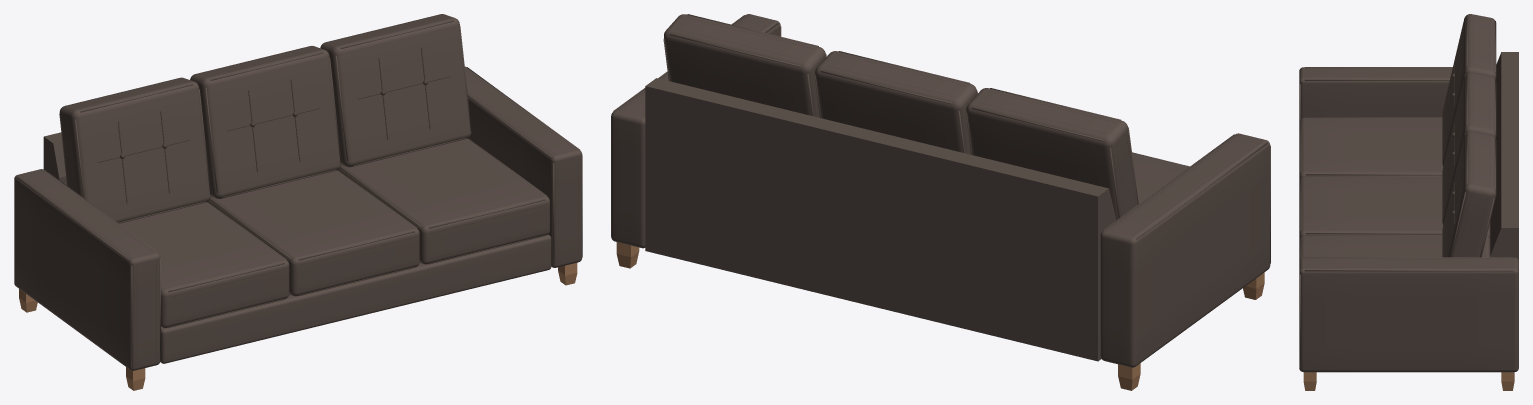
File: benza_220x100.glb
The picture shows the model from 3 angles, left to right: view 1: azimuth 30°, elevation 25°; view 2: azimuth 150°, elevation 25°; view 3: azimuth 270°, elevation 25°; orthographic projection. The views are drawn at different scales.
Parts seen in each view (by area): view 1: p1, p2, p0; view 2: p1, p0, p2; view 3: p1, p2, p0.
Boxes of the visible parts, left/top/right/bottom form: p1: left=14, top=14, right=582, bottom=370; p2: left=21, top=16, right=578, bottom=365; p0: left=19, top=263, right=577, bottom=390; p1: left=611, top=14, right=1270, bottom=367; p0: left=616, top=242, right=1264, bottom=390; p2: left=619, top=15, right=1261, bottom=235; p1: left=1299, top=14, right=1518, bottom=372; p2: left=1306, top=16, right=1512, bottom=267; p0: left=1303, top=372, right=1514, bottom=390.
Size of the model in its own units: 2.2 by 0.9642 by 1.
Materials: 3 (2 with a texture image).
